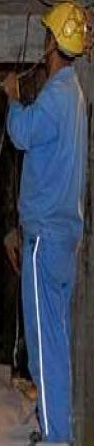hard-hat: (0, 127, 47, 246)
ppe-suit: (2, 63, 88, 445)
